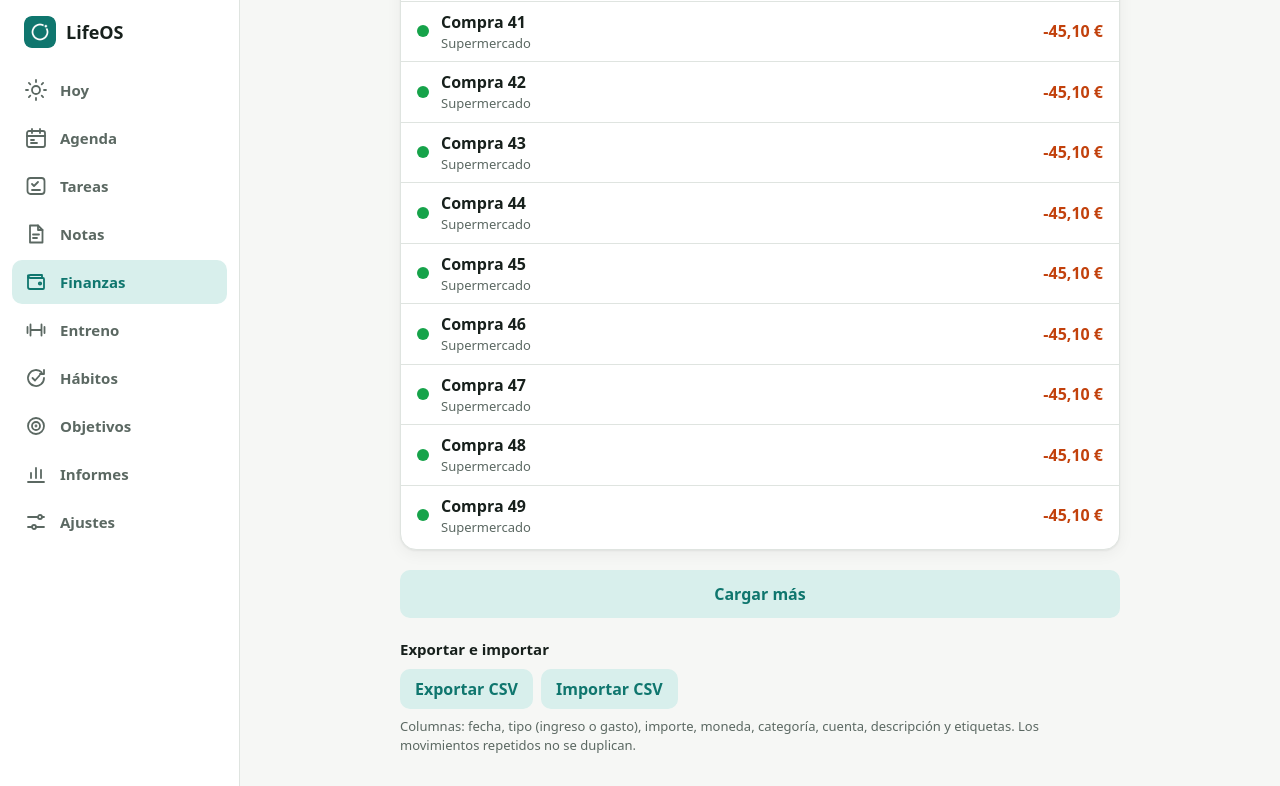
Test: finanzas › lista los movimientos agrupados por día con sus totales y carga más
(page scrolled)
Click the button "Cargar más" at {"x": 760, "y": 594}, box [400, 570, 1120, 618]
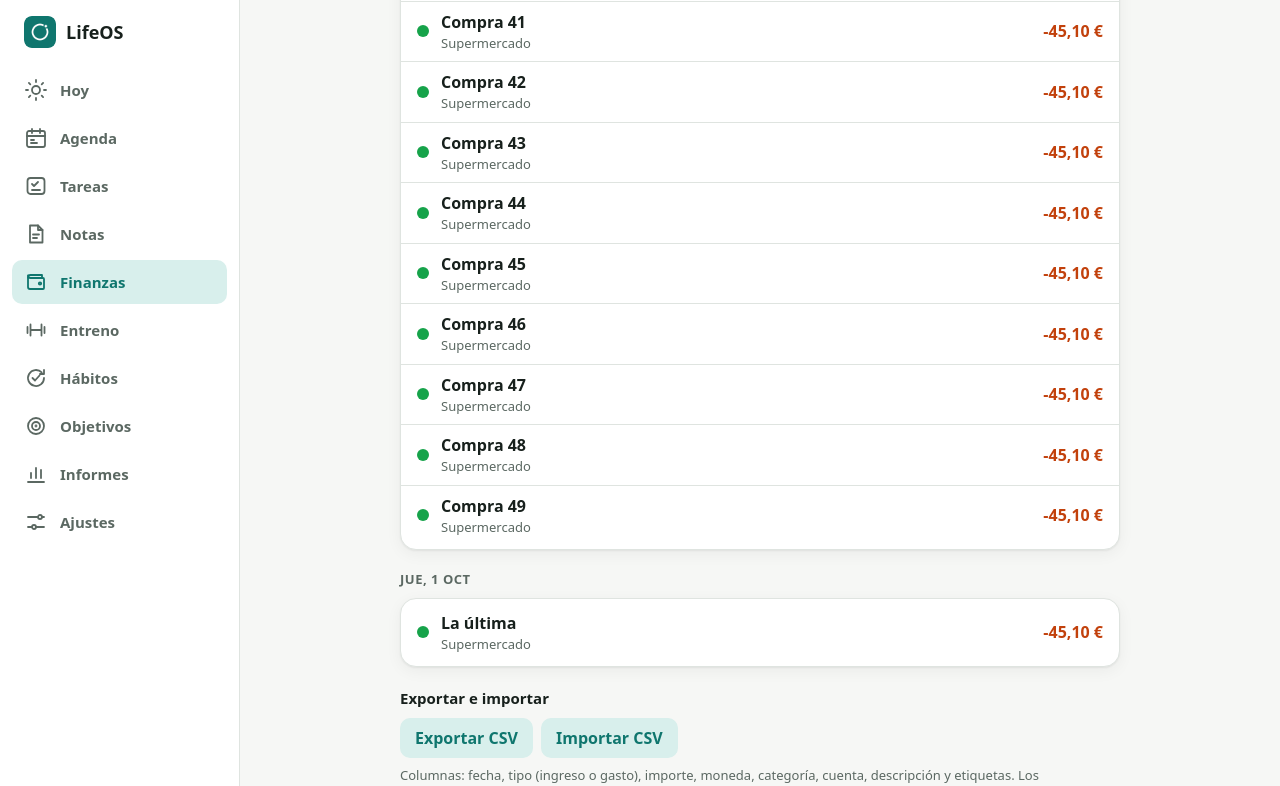
Expected: the text "La última" is shown, [441, 612, 516, 634]
Expected: the button "Cargar más" is gone
